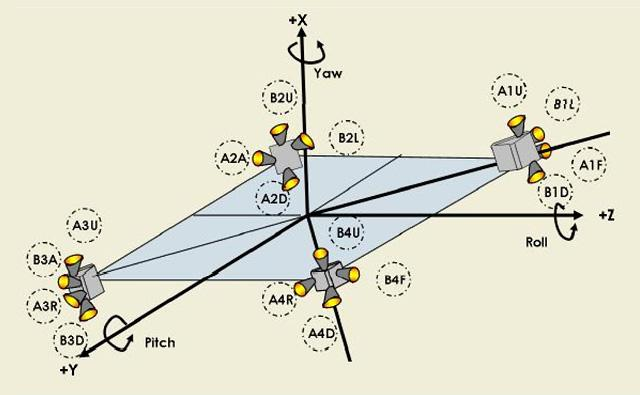thruster: (290, 129, 316, 153), (78, 298, 100, 322), (253, 150, 278, 170), (322, 286, 342, 309), (508, 114, 527, 138), (64, 254, 83, 278), (294, 278, 318, 297), (269, 123, 290, 144), (283, 167, 302, 189), (528, 161, 546, 184), (337, 266, 360, 283), (57, 276, 83, 290), (65, 291, 86, 307), (313, 248, 328, 267), (532, 123, 545, 143), (541, 140, 552, 159)
